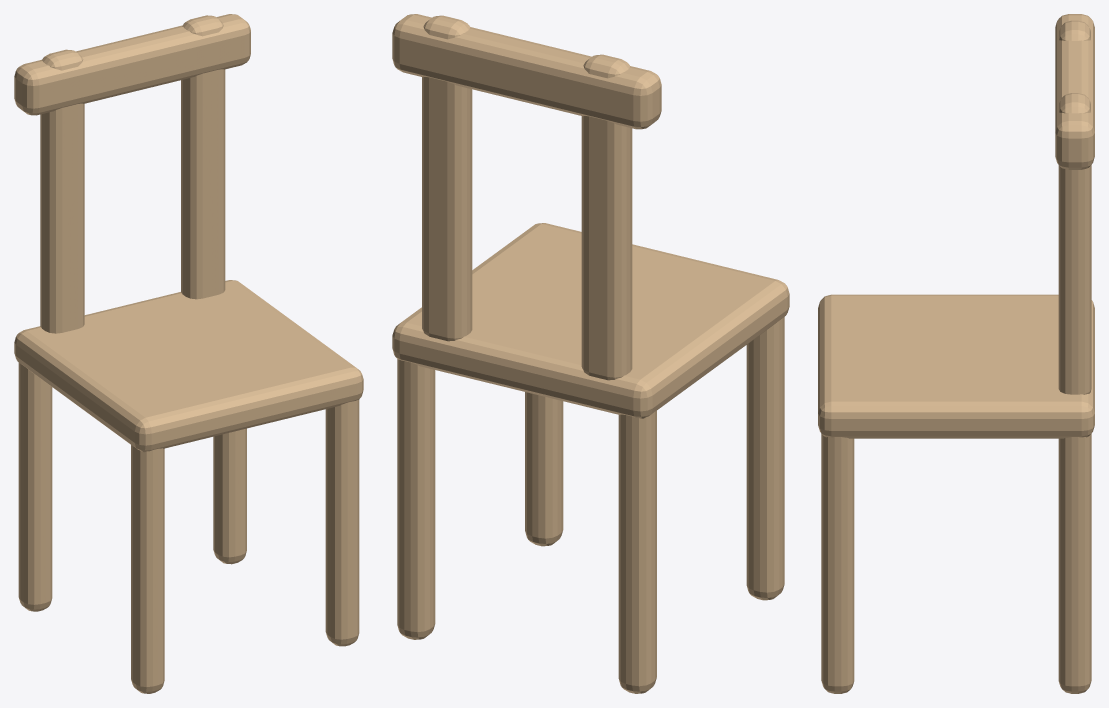
Rendered from OldChair.fbx.
3 renders of one model, left to right at view 1: azimuth 30°, elevation 25°; view 2: azimuth 150°, elevation 25°; view 3: azimuth 270°, elevation 25°, orthographic. The views are drawn at different scales.
Visible parts, largest first — view 1: OldChair; view 2: OldChair; view 3: OldChair.
Boxes of the visible parts, x1,y1,x2,y2 form: OldChair: (14,14,363,693); OldChair: (392,14,789,693); OldChair: (818,14,1094,693).
Size of the model in its own units: 0.42 by 0.97 by 0.42.
